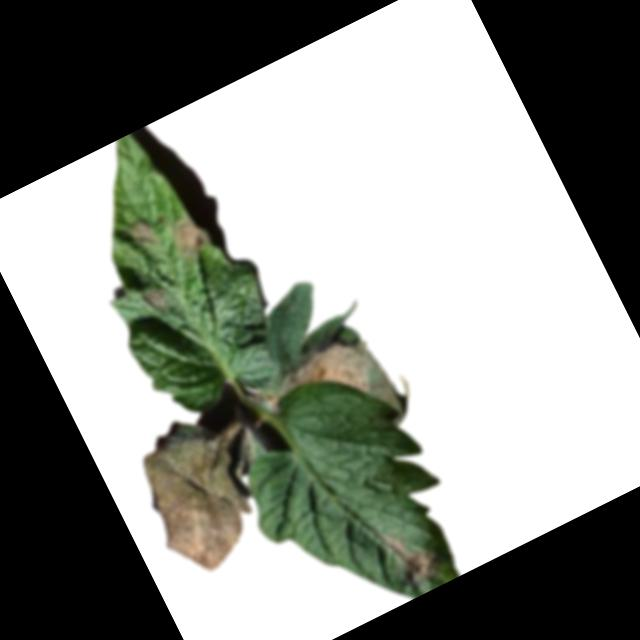Late_blight: (121, 407, 274, 582), (246, 325, 389, 437), (376, 514, 448, 592), (164, 209, 213, 262), (125, 215, 158, 249), (137, 280, 170, 312)
